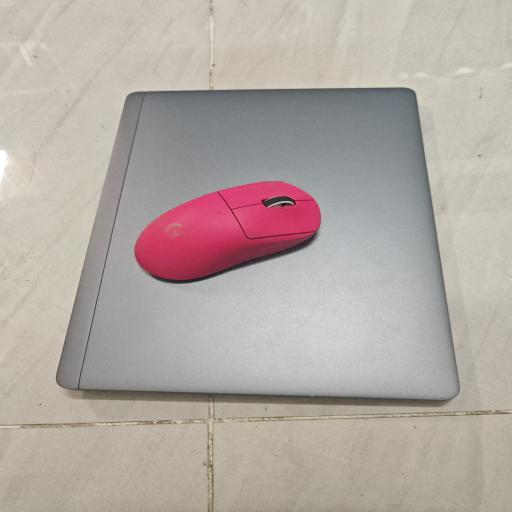laptop: (57, 88, 459, 400)
mouse: (134, 181, 320, 280)
